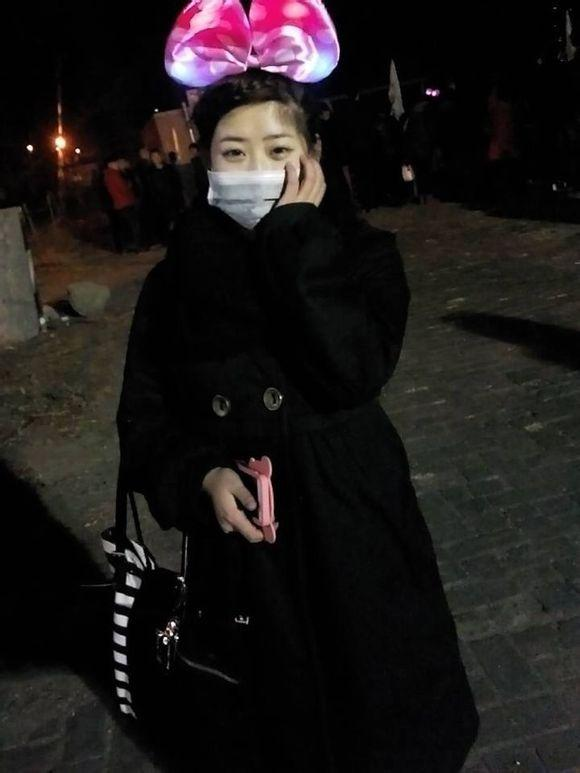OK: (212, 124, 317, 229)
